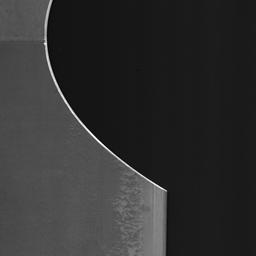Crescent gap: (47, 0, 166, 189)
